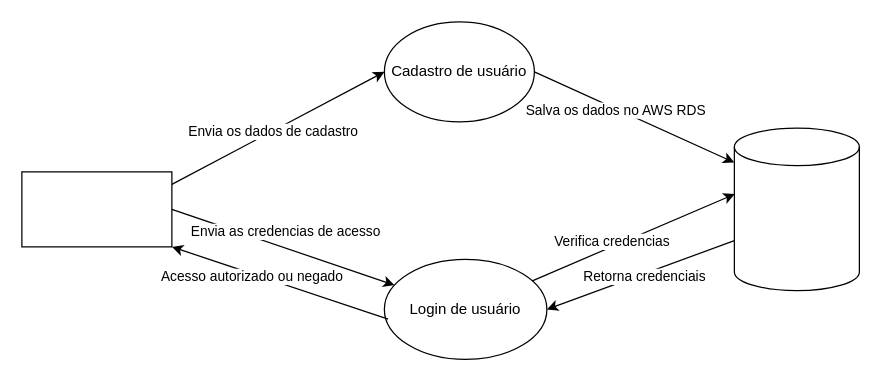
Some shapes in this 881 by 381 pixel diagram are drawn without their labels. Here are the shapes that lost their labels. From the top down, the box of each, then its label:
(21, 171, 172, 247): Usuário
(733, 127, 859, 291): AWS RDS
